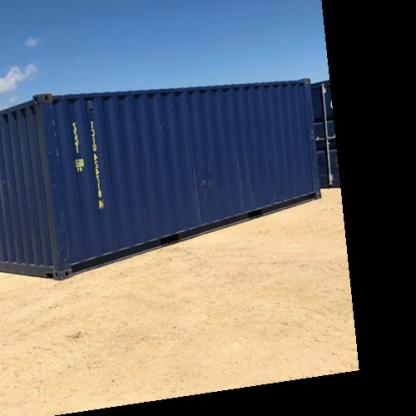Damage: (46, 117, 74, 271), (194, 154, 224, 204)
